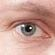eye: (21, 24, 35, 36)
